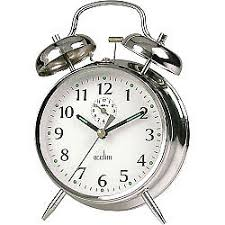alarm_clock: (25, 2, 188, 221)
